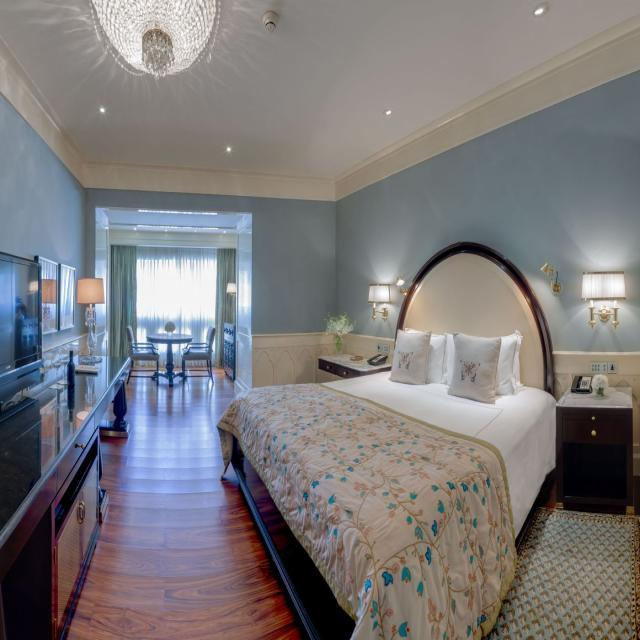bed: (217, 240, 557, 639)
chair: (182, 307, 233, 399), (113, 319, 167, 395)
